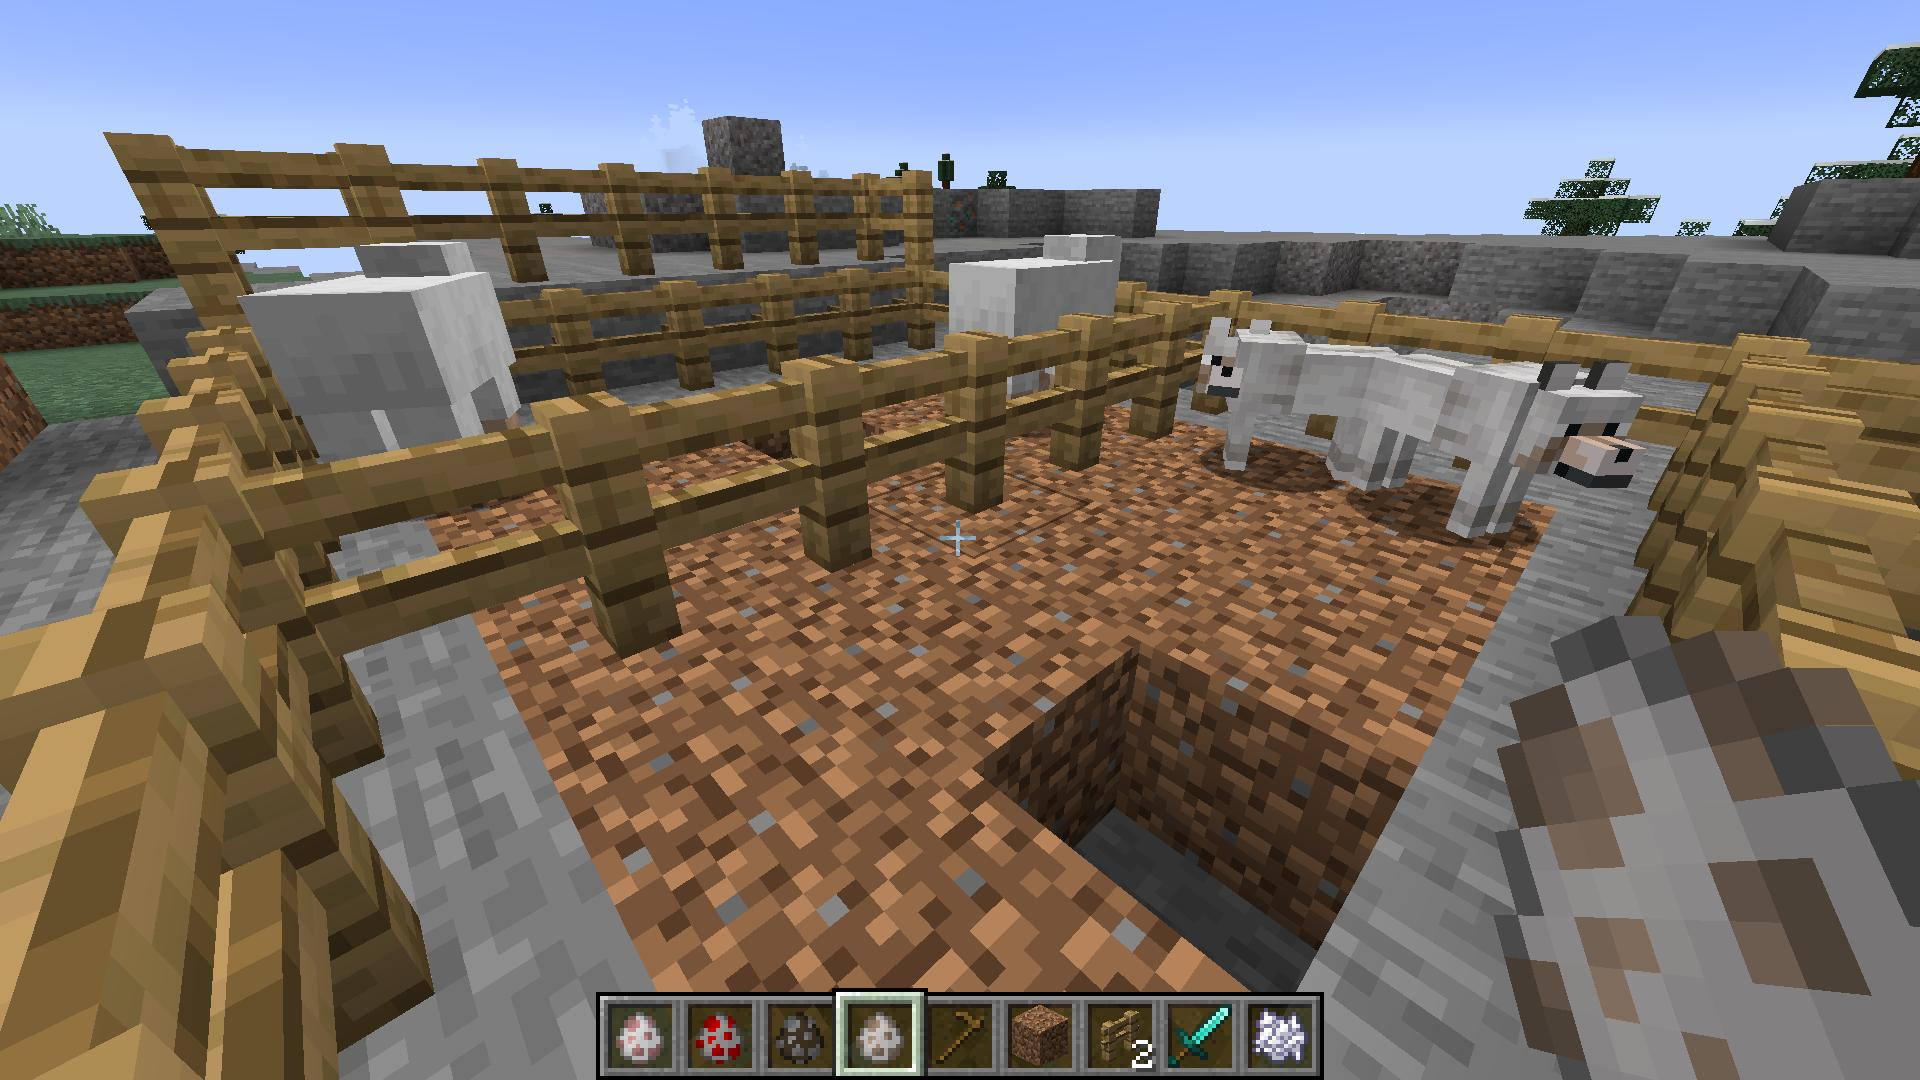sheep: (249, 236, 525, 456), (948, 225, 1130, 344)
wolf: (1360, 351, 1658, 539), (1200, 314, 1389, 483)
